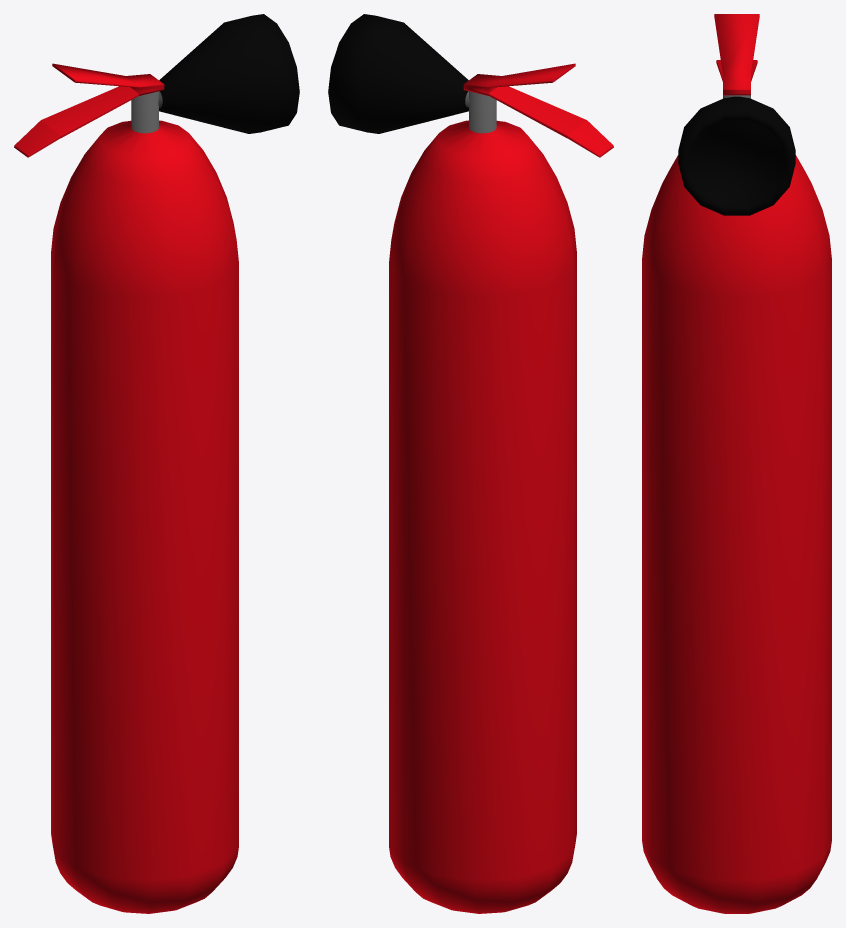
File: extincteur.glb
3 renders of one model, left to right at view 1: azimuth 30°, elevation 25°; view 2: azimuth 150°, elevation 25°; view 3: azimuth 270°, elevation 25°, orthographic.
Parts seen in each view (by area): view 1: extincteur; view 2: extincteur; view 3: extincteur.
Part boxes in pixels (box(x1,y1,x2,y2)): extincteur: box(14, 14, 299, 913); extincteur: box(328, 14, 613, 913); extincteur: box(642, 14, 831, 913).
Bounding box in the file's own units: 3.03 × 9.78 × 2.
